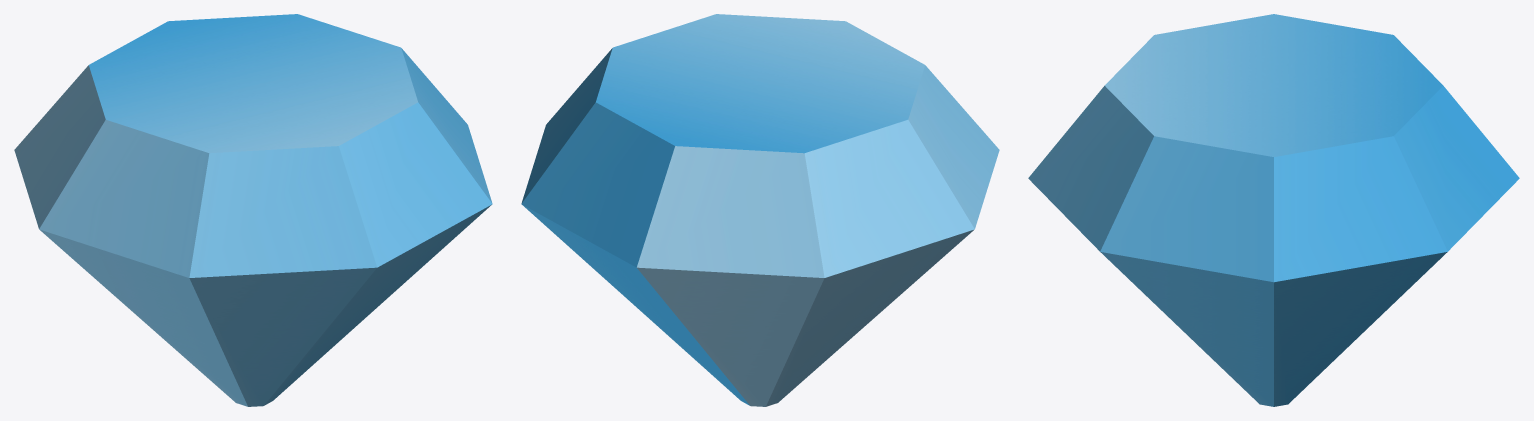
Rendered from Diamond.fbx.
The picture shows the model from 3 angles, left to right: view 1: azimuth 30°, elevation 25°; view 2: azimuth 150°, elevation 25°; view 3: azimuth 270°, elevation 25°; orthographic projection.
Parts seen in each view (by area): view 1: Cylinder; view 2: Cylinder; view 3: Cylinder.
Part boxes in pixels (x1,y1,x2,y2): Cylinder: (14, 14, 492, 406); Cylinder: (521, 14, 999, 406); Cylinder: (1028, 14, 1519, 406).
Size of the model in its own units: 200 by 140 by 200.
